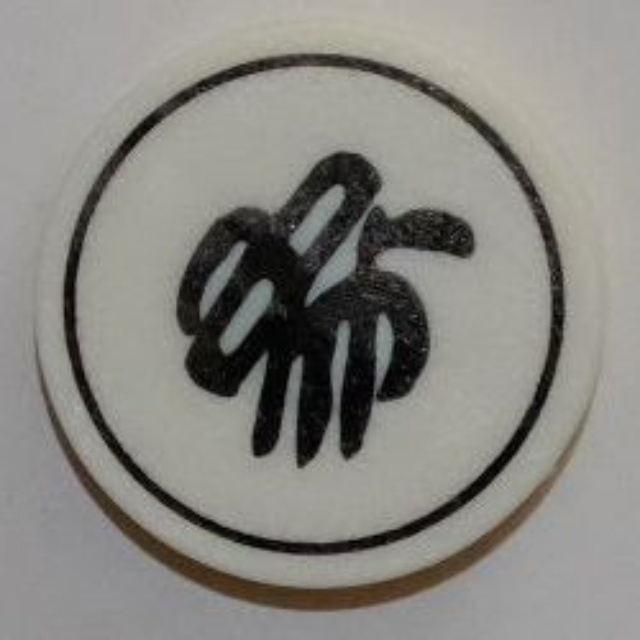black_bo: (33, 20, 614, 616)
